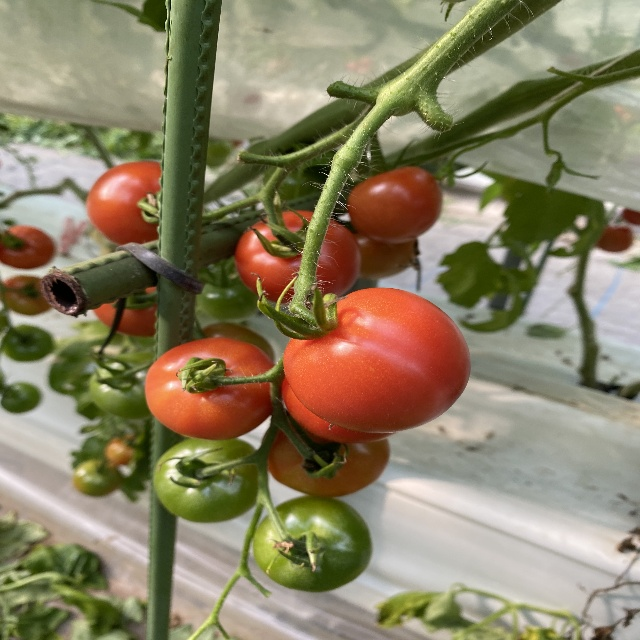l_fully_ripened: (283, 286, 471, 433), (146, 338, 275, 440), (234, 209, 362, 307), (279, 370, 396, 443), (346, 165, 444, 244), (86, 160, 160, 246), (92, 286, 157, 336)
l_green: (252, 496, 375, 593), (151, 436, 258, 524), (91, 356, 155, 419)
l_half_ripened: (260, 414, 390, 496)
